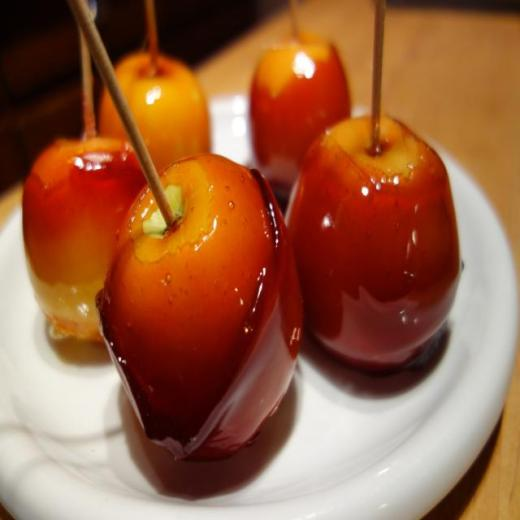Apple: (22, 33, 463, 463)
